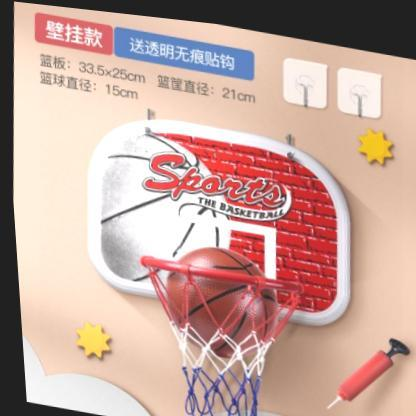basketball: (154, 235, 281, 361)
rim: (128, 252, 307, 416)
